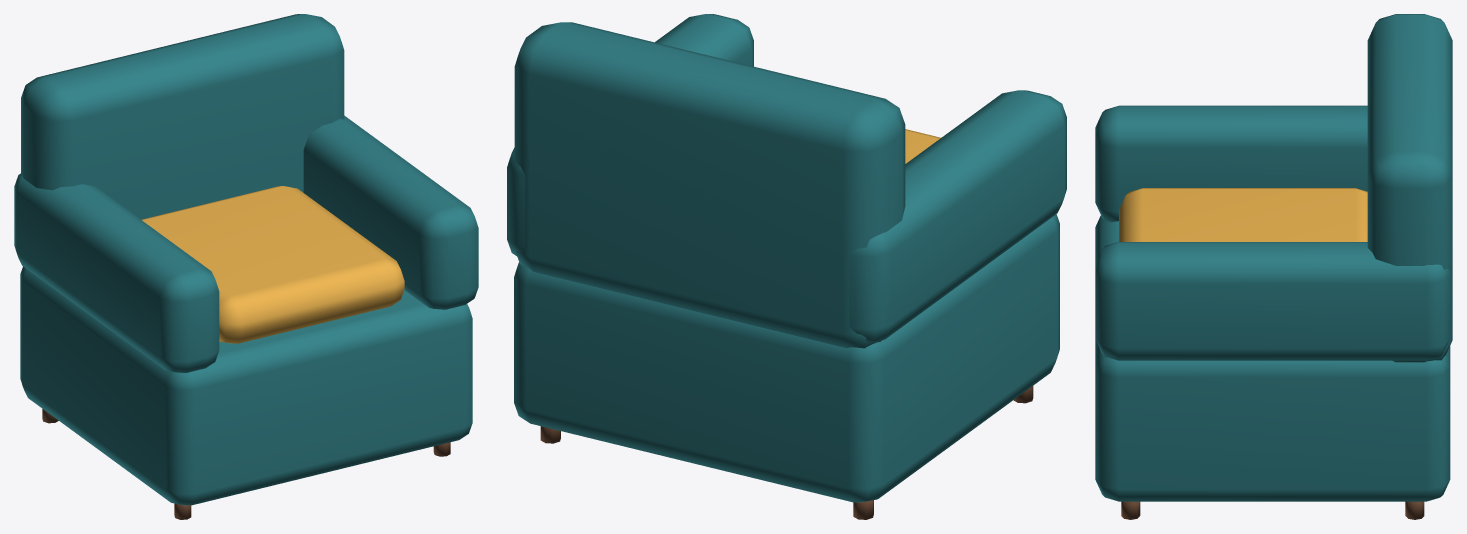
Rendered from Armchair.fbx.
The picture shows the model from 3 angles, left to right: view 1: azimuth 30°, elevation 25°; view 2: azimuth 150°, elevation 25°; view 3: azimuth 270°, elevation 25°; orthographic projection. The views are drawn at different scales.
Visible parts, largest first — view 1: ArmchairBody; view 2: ArmchairBody; view 3: ArmchairBody.
Part boxes in pixels (<box>): ArmchairBody: <box>14,14,478,519</box>; ArmchairBody: <box>507,14,1066,519</box>; ArmchairBody: <box>1095,14,1452,519</box>.
Bounding box in the file's own units: 0.83 × 0.85 × 0.755.
